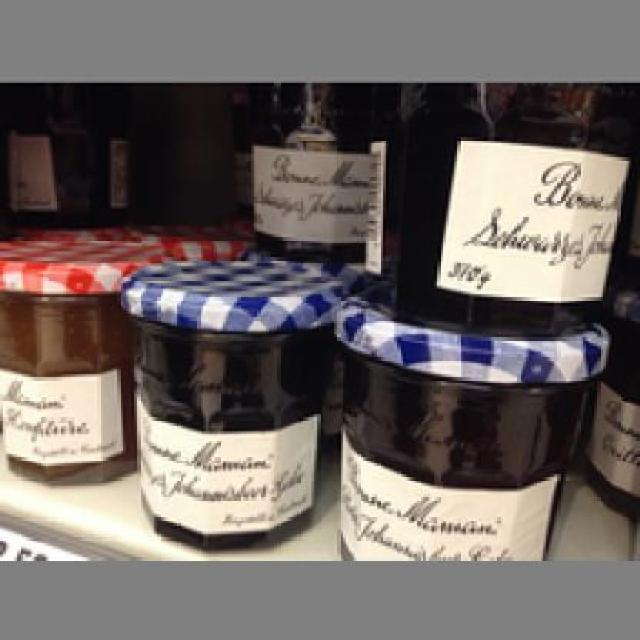Jam: (336, 294, 610, 560), (363, 80, 626, 334), (117, 253, 334, 550), (0, 234, 126, 486)
